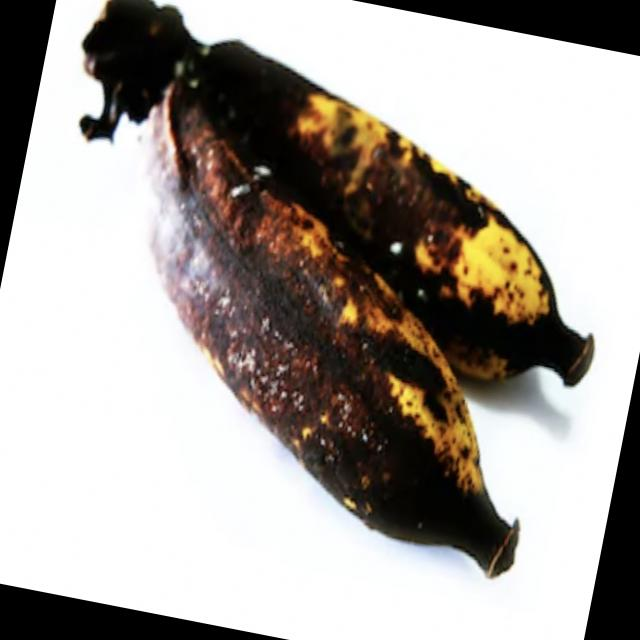rotten-banana: (104, 101, 572, 558), (92, 39, 640, 398)
